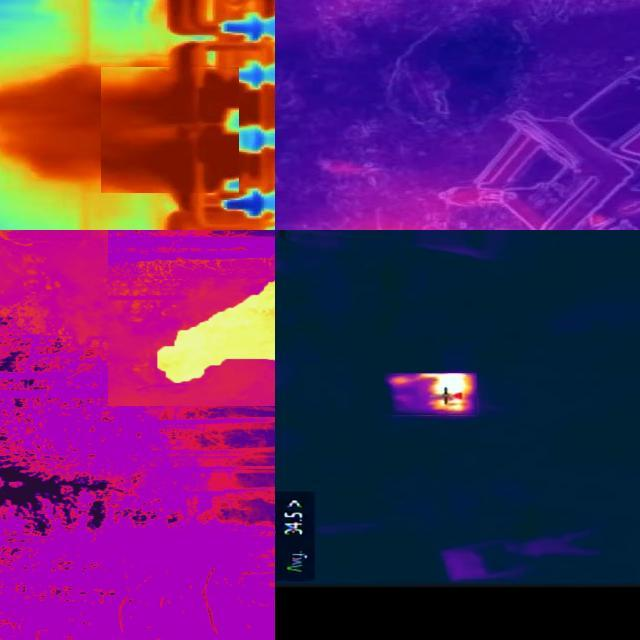fire: (160, 280, 276, 393), (157, 67, 240, 195), (431, 373, 478, 411)
